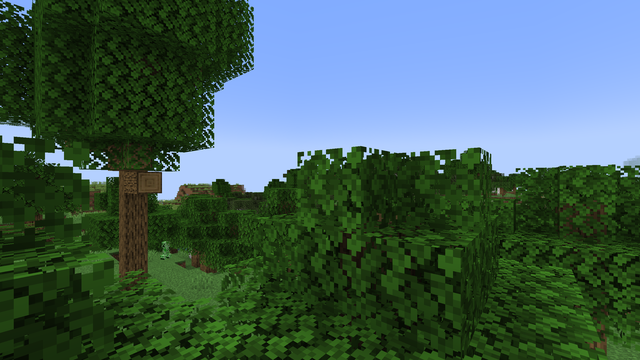creepers: (161, 240, 170, 258)
